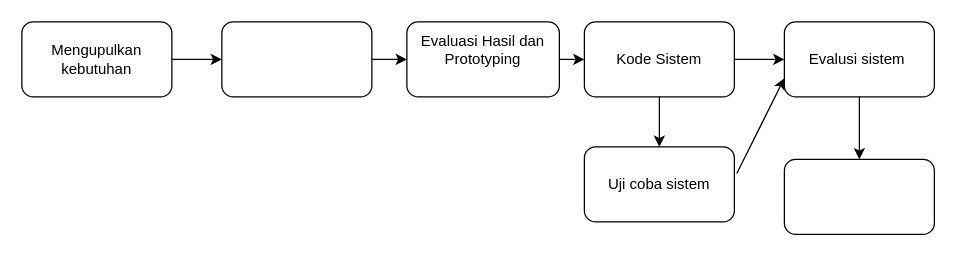
This 956x256 diagram has some shape labels left out. Each missing label, with the box of its shape:
Membangun Prototyping: (221, 21, 372, 97)
Sistem digunakan: (783, 158, 934, 234)
